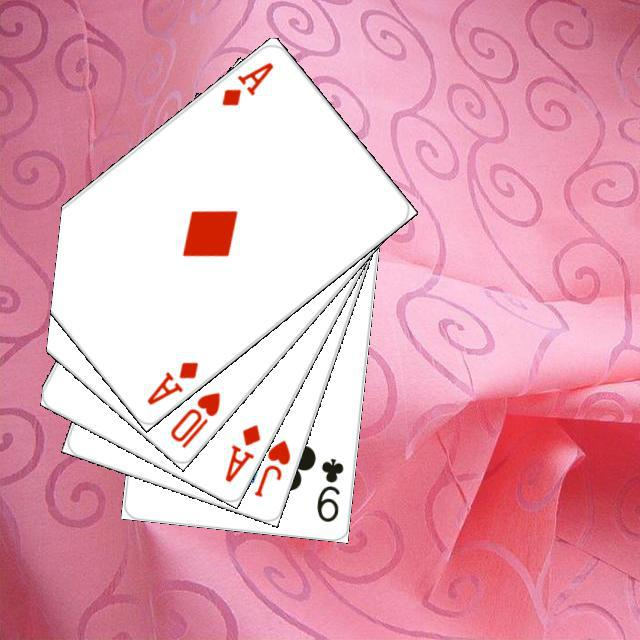10h: (165, 387, 223, 450)
9c: (312, 453, 345, 524)
Ad: (216, 56, 275, 108), (141, 356, 200, 407), (219, 419, 263, 485)
Jh: (249, 435, 292, 499)
